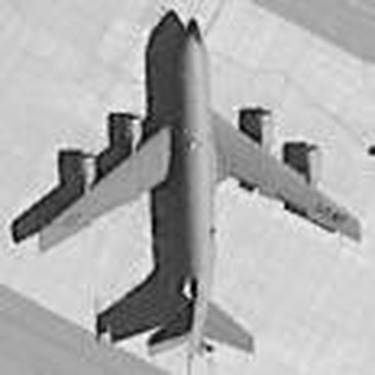airplane: (10, 4, 369, 369)
